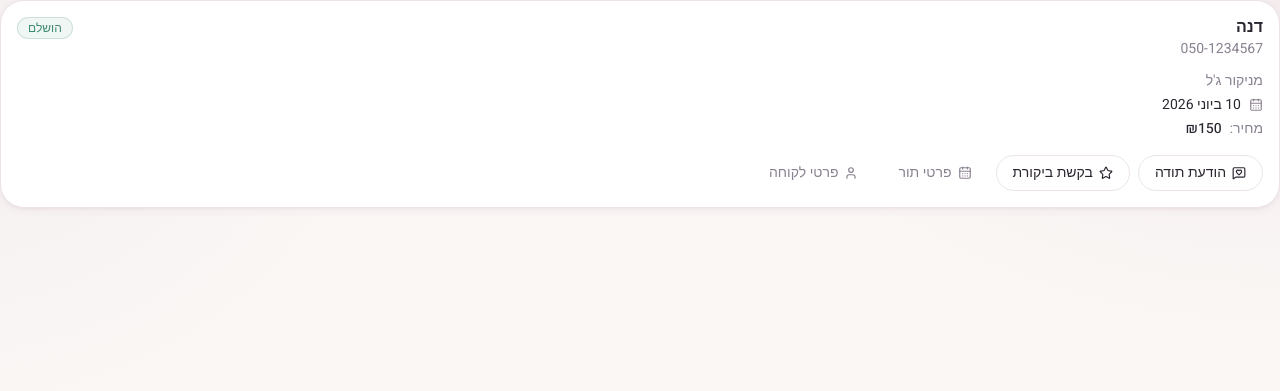
Test case: ReputationBookingCard › switches from thank-you to review when the other button is pressed
What coordinates should you click on to do the following:
click the button "הודעת תודה"
I would click on:
 (1200, 173)
Its box is [1138,155,1263,191].
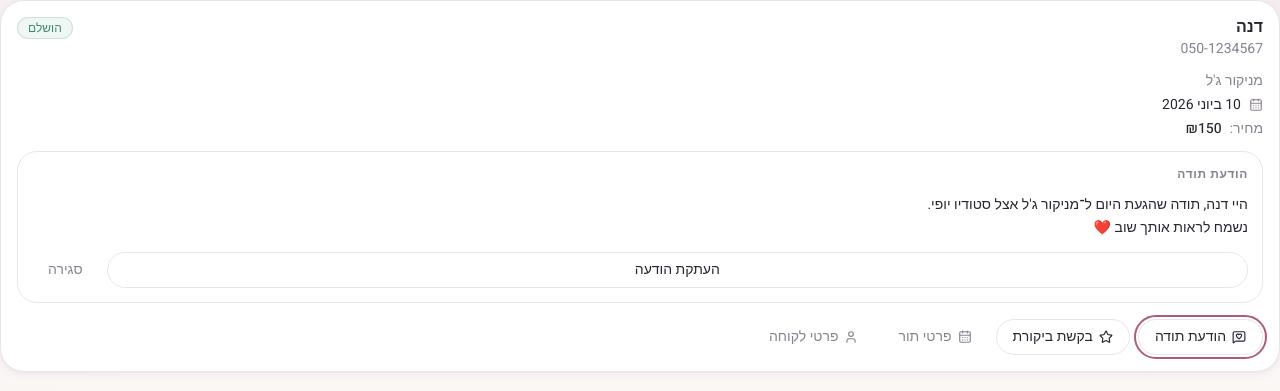
Now the text "הודעת תודה" is shown, box [1177,165,1248,183]
What coordinates should you click on to do the following:
click the button "בקשת ביקורת"
I would click on:
 (1063, 336)
Its box is [996,318,1130,354].
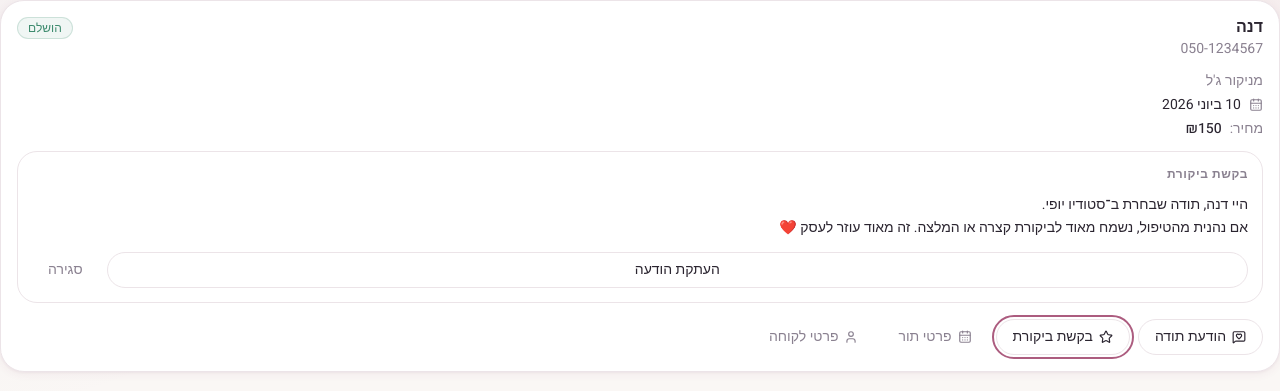
Now the text "בקשת ביקורת" is shown, box [1167,165,1248,183]
